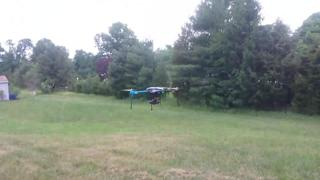UAV: (120, 86, 183, 111)
